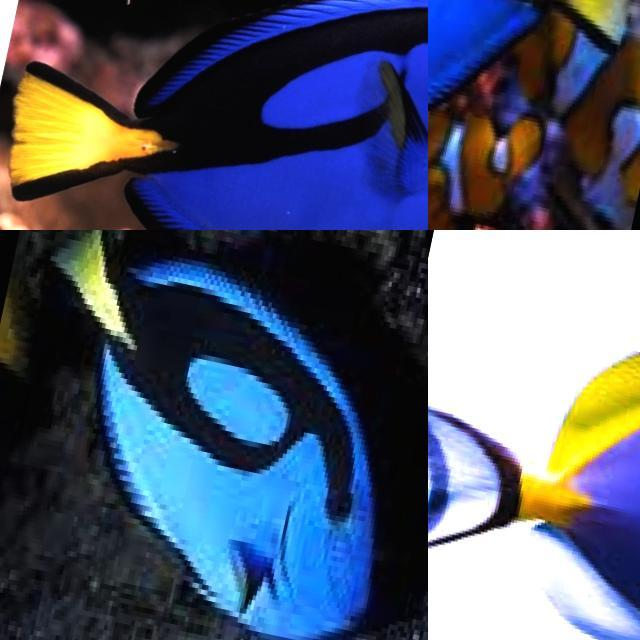BlueTang: (68, 240, 372, 640), (0, 0, 428, 230), (428, 356, 640, 640)
ClownFish: (516, 13, 640, 198), (431, 113, 545, 218)
